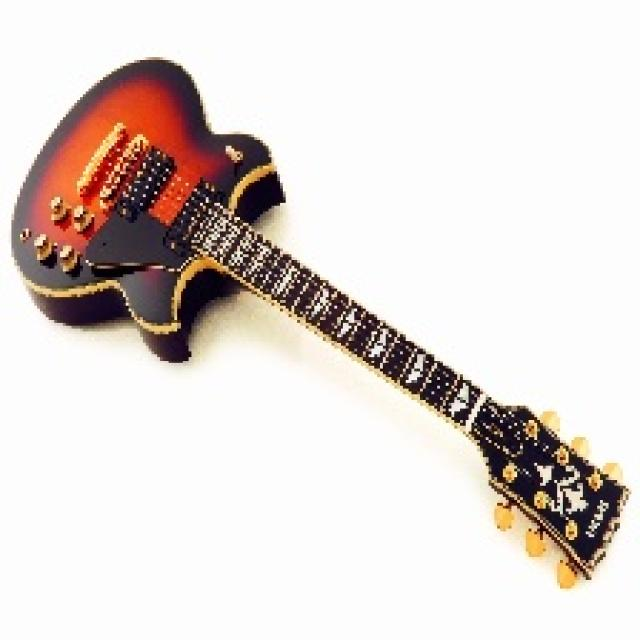guitar: (7, 55, 632, 598)
